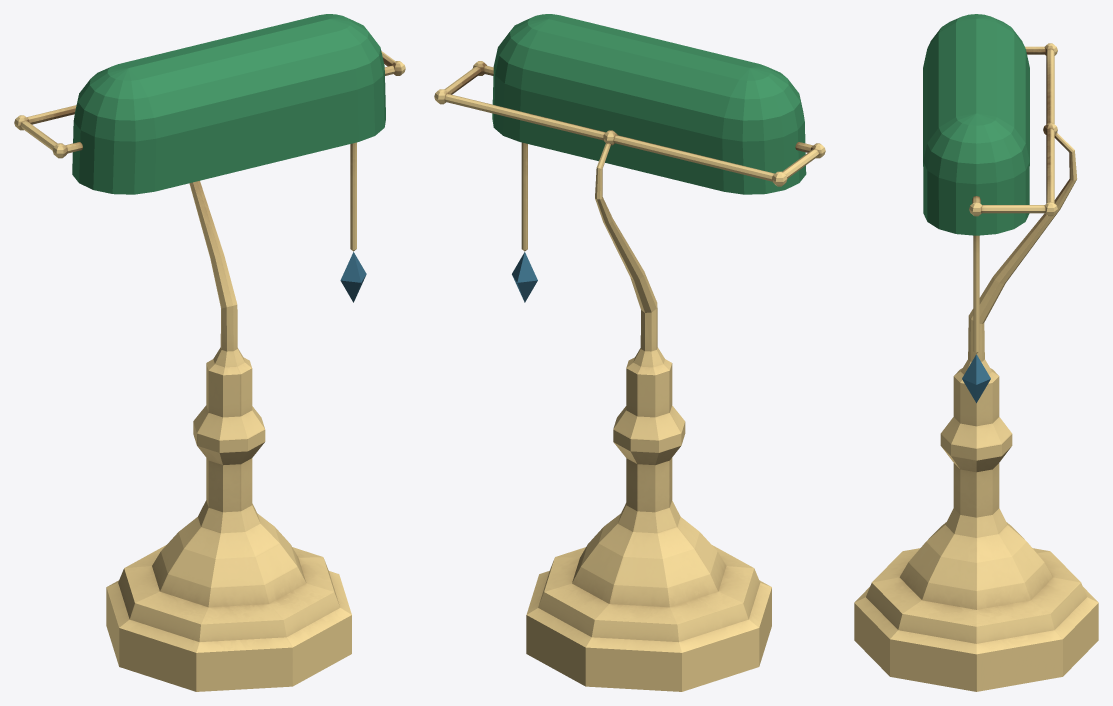
File: banker_lamp.glb
3 renders of one model, left to right at view 1: azimuth 30°, elevation 25°; view 2: azimuth 150°, elevation 25°; view 3: azimuth 270°, elevation 25°, orthographic. The views are drawn at different scales.
Visible parts, largest first — view 1: Banker lamp_0; view 2: Banker lamp_0; view 3: Banker lamp_0.
Part boxes in pixels (x1,y1,x2,y2): Banker lamp_0: [14, 14, 405, 691]; Banker lamp_0: [434, 14, 825, 691]; Banker lamp_0: [854, 14, 1098, 691].
Bounding box in the file's own units: 0.2605 × 0.4251 × 0.1642.
1 material, 1 textured.
